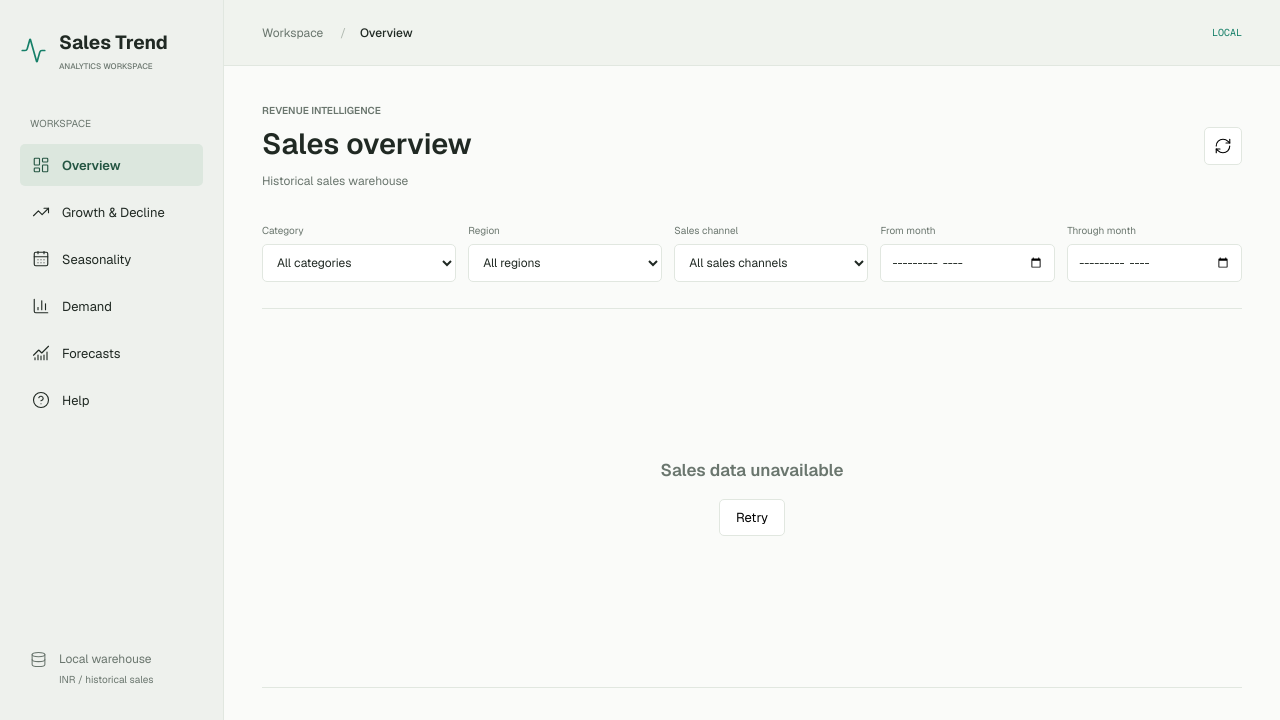
Test: offers retry after a network failure
The image size is (1280, 720).
Expected: the message "Sales data unavailable Retry" is shown, [262,308,1242,688]
Click the button "Retry": click(752, 518) [719,499,785,536]
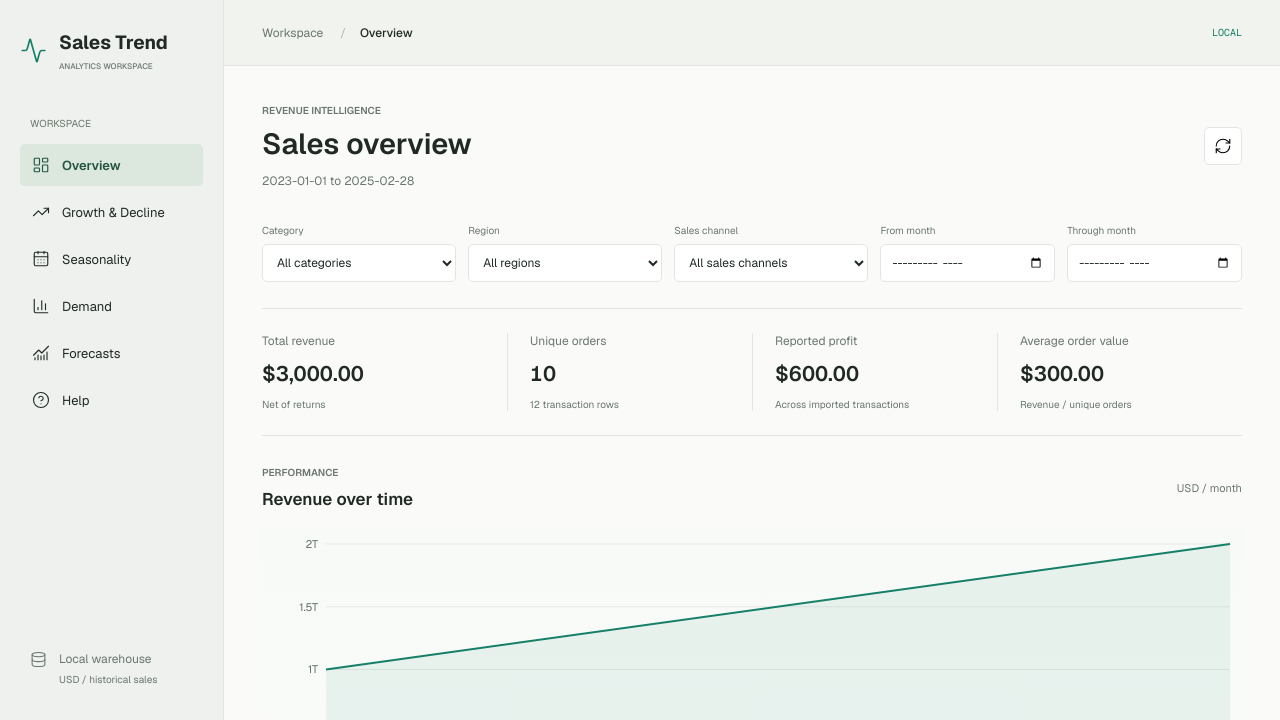
Expected: the text "$3,000.00" is shown, [262,360,364,387]
